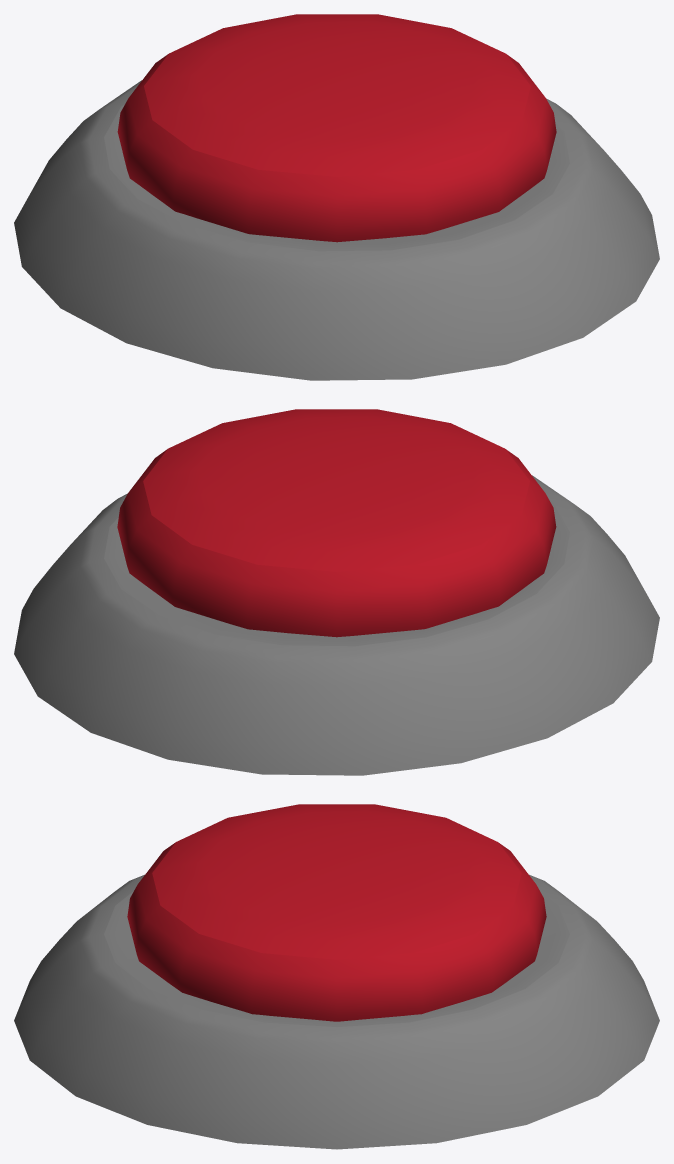
Rendered from BotonModelo.glb.
The picture shows the model from 3 angles, top to bottom: view 1: azimuth 30°, elevation 25°; view 2: azimuth 150°, elevation 25°; view 3: azimuth 270°, elevation 25°; orthographic projection. The views are drawn at different scales.
Parts seen in each view (by area): view 1: pasted__polySurface2, pasted__polySurface2.001; view 2: pasted__polySurface2, pasted__polySurface2.001; view 3: pasted__polySurface2, pasted__polySurface2.001.
Boxes of the visible parts, x1,y1,x2,y2 form: pasted__polySurface2: (14, 80, 659, 380); pasted__polySurface2.001: (117, 14, 556, 242); pasted__polySurface2: (14, 475, 659, 775); pasted__polySurface2.001: (117, 409, 556, 637); pasted__polySurface2: (14, 874, 659, 1149); pasted__polySurface2.001: (127, 804, 546, 1021).
Size of the model in its own units: 3.15 by 0.9075 by 3.34.
